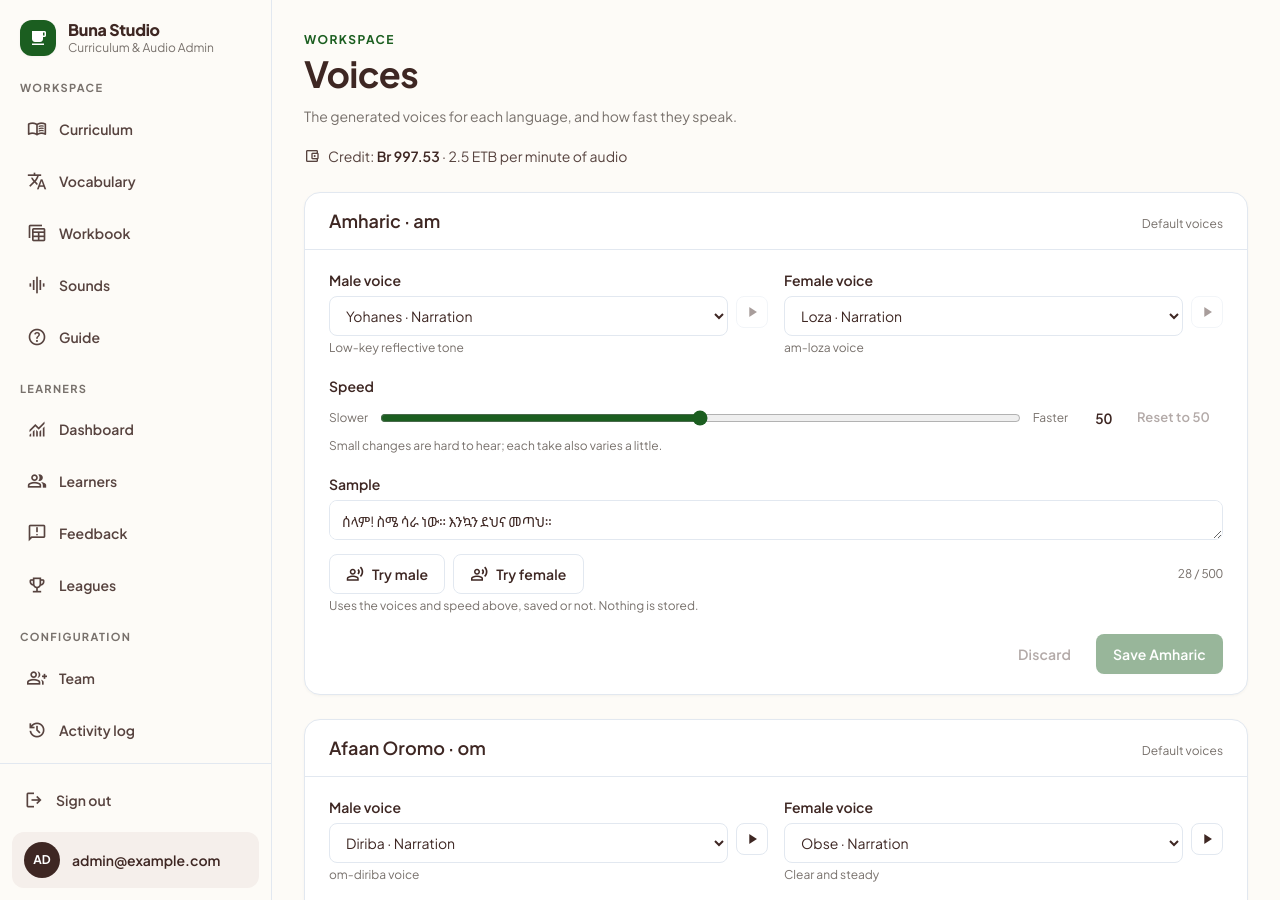
hearing the voices › plays a voice’s preview, and one sound at a time
This screenshot has width=1280, height=900.
Expected: the 2nd dropdown labelled "Female voice" shows "Obse · Narration", x1=784 y1=823 x2=1183 y2=863
Click the button named "Play Obse preview".
click(1207, 839)  # box x1=1191 y1=823 x2=1223 y2=855
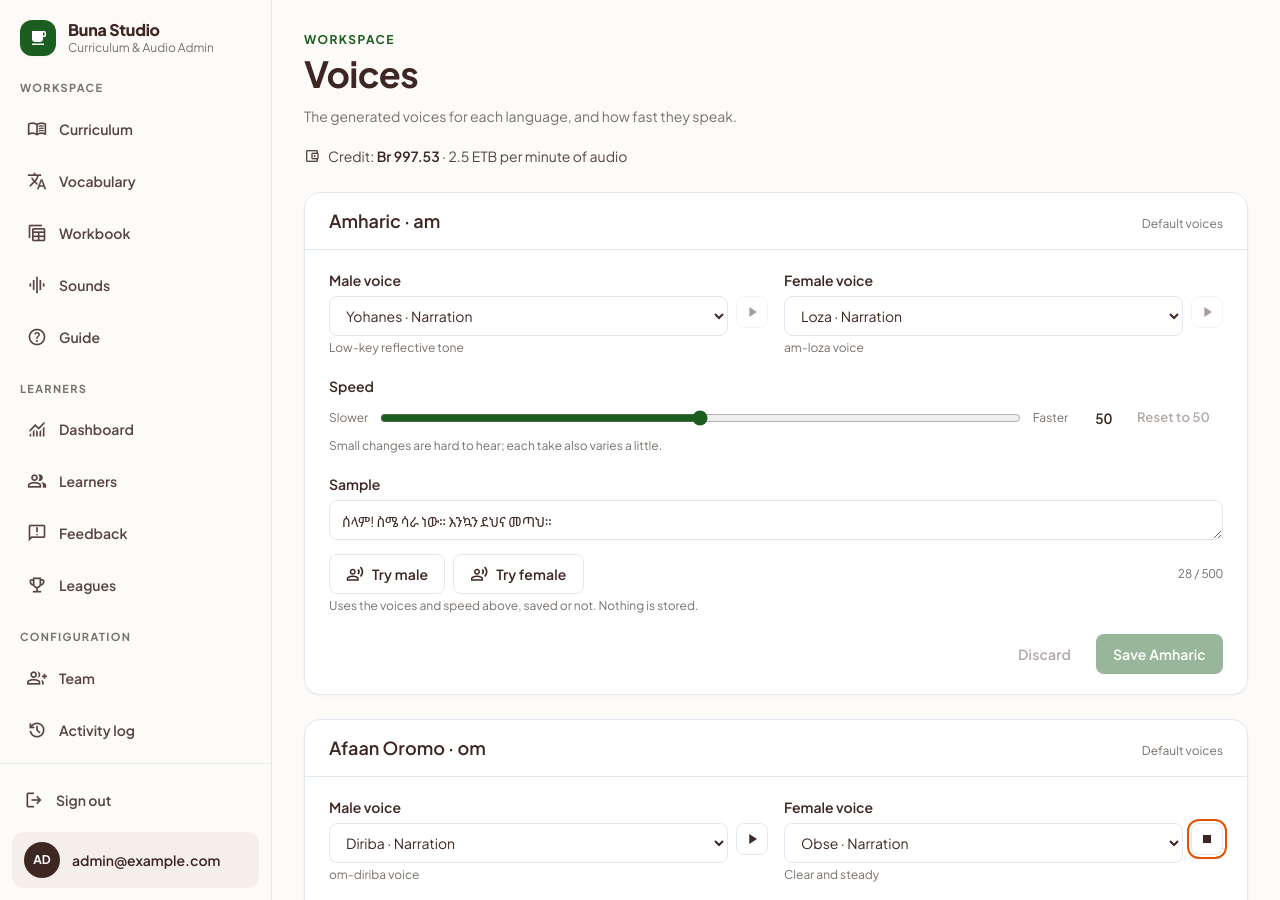
Now the button named "Stop" is shown, box x1=1191 y1=823 x2=1223 y2=855
Click the button named "Play Diriba preview".
click(752, 839)  # box x1=736 y1=823 x2=768 y2=855
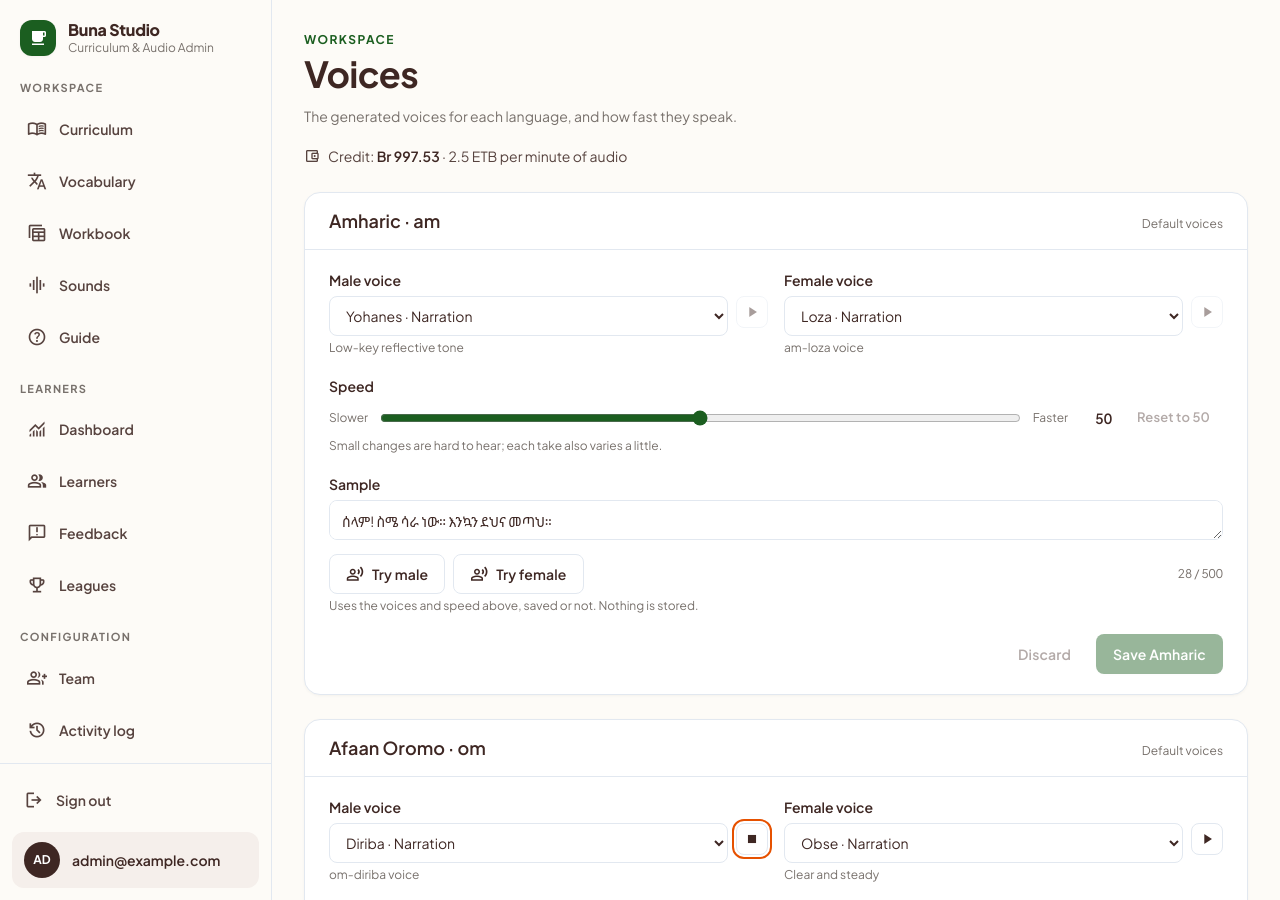
Expected: the number of buttons named "Stop" is 1, x1=736 y1=823 x2=768 y2=855
Now the button named "Play Obse preview" is shown, box x1=1191 y1=823 x2=1223 y2=855
